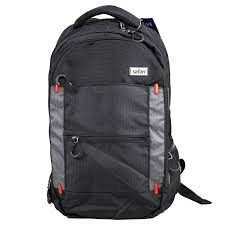backpack: (46, 4, 212, 219)
